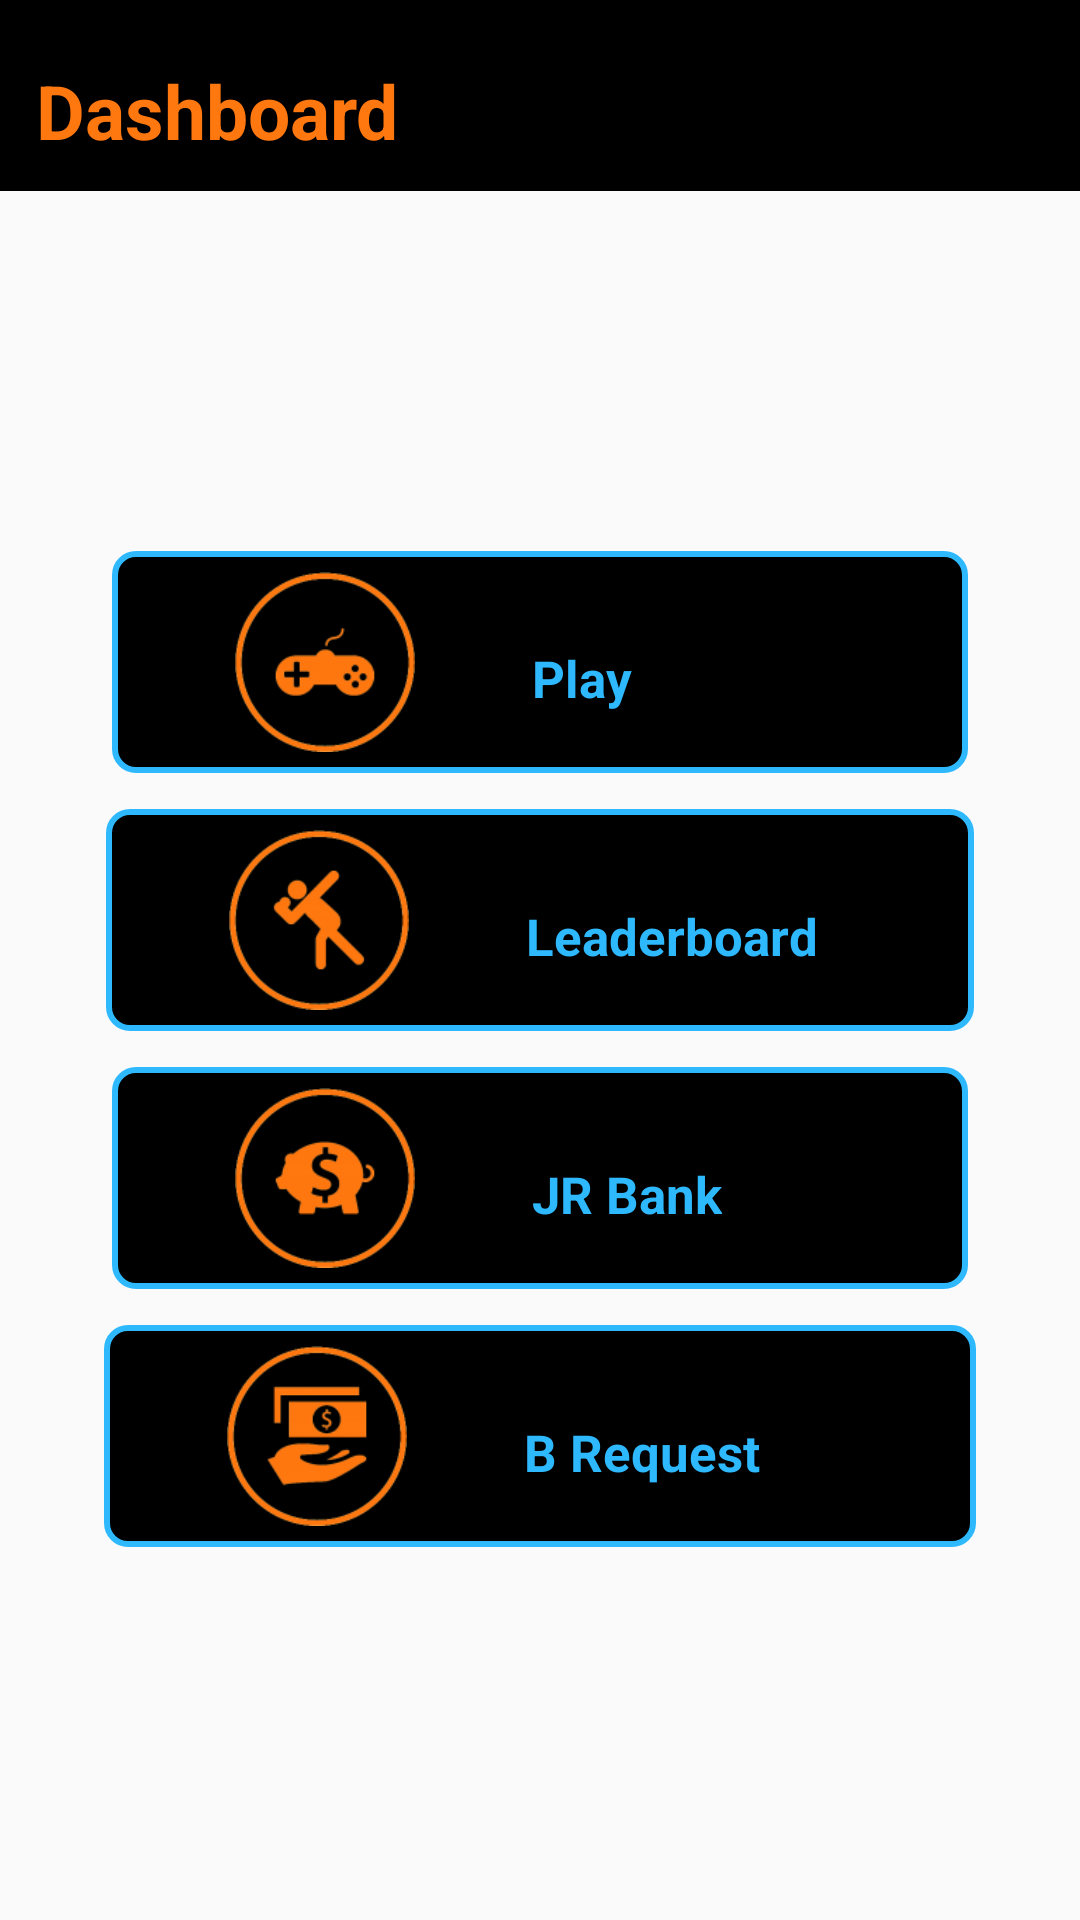

Where to tap for icons on this 1080px x 1920px app screen, as (x=x, y=y):
deposit: (x=325, y=1178)
donate: (x=317, y=1436)
joystick: (x=325, y=662)
